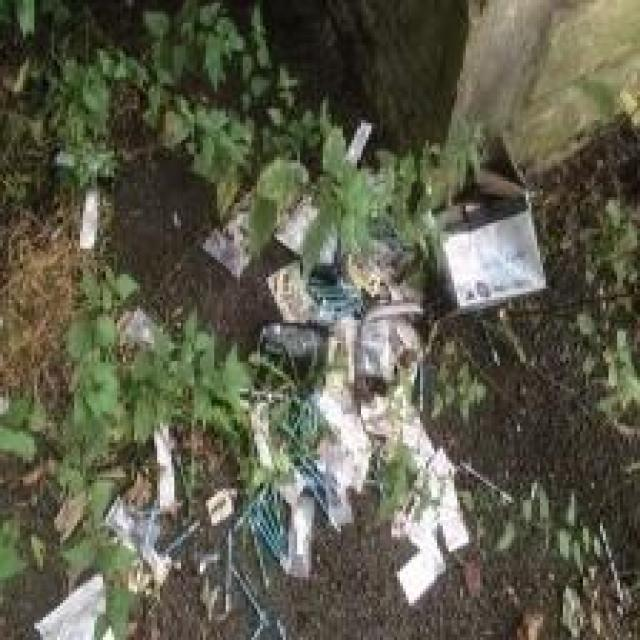syringe: (110, 379, 358, 638), (590, 522, 639, 630), (460, 447, 511, 512), (411, 342, 435, 423)
